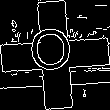O_S: (32, 28, 78, 82)
